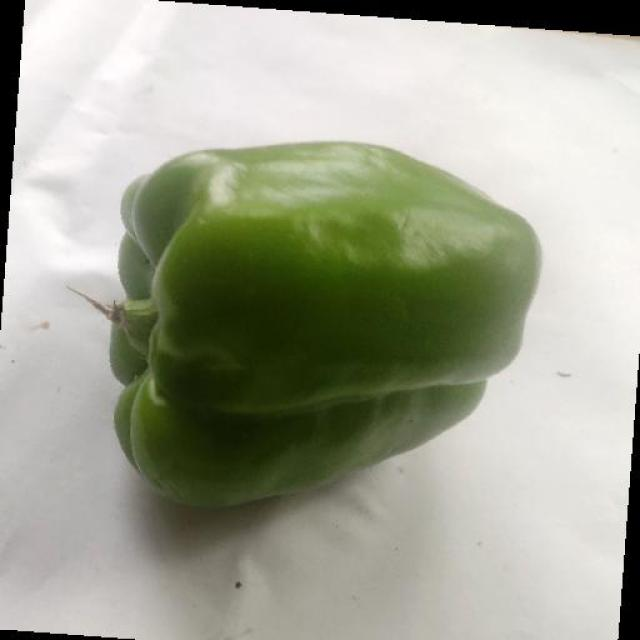Fresh_Capsicum: (105, 144, 545, 510)
